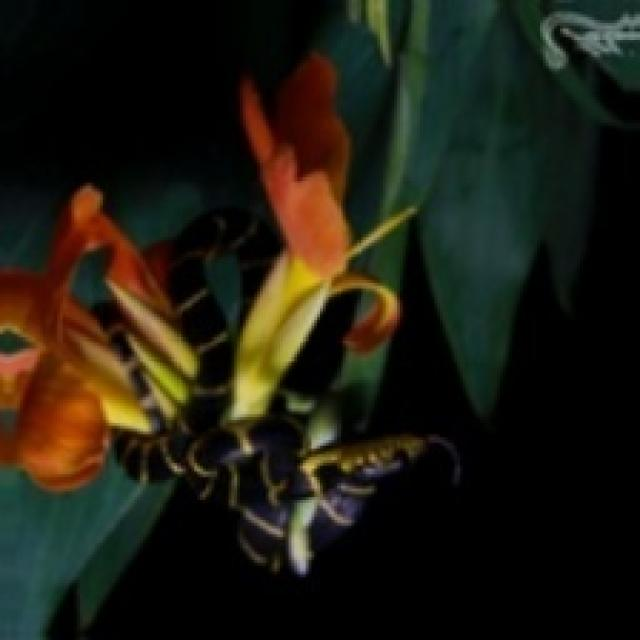mangrove cat snake: (95, 210, 428, 571)
